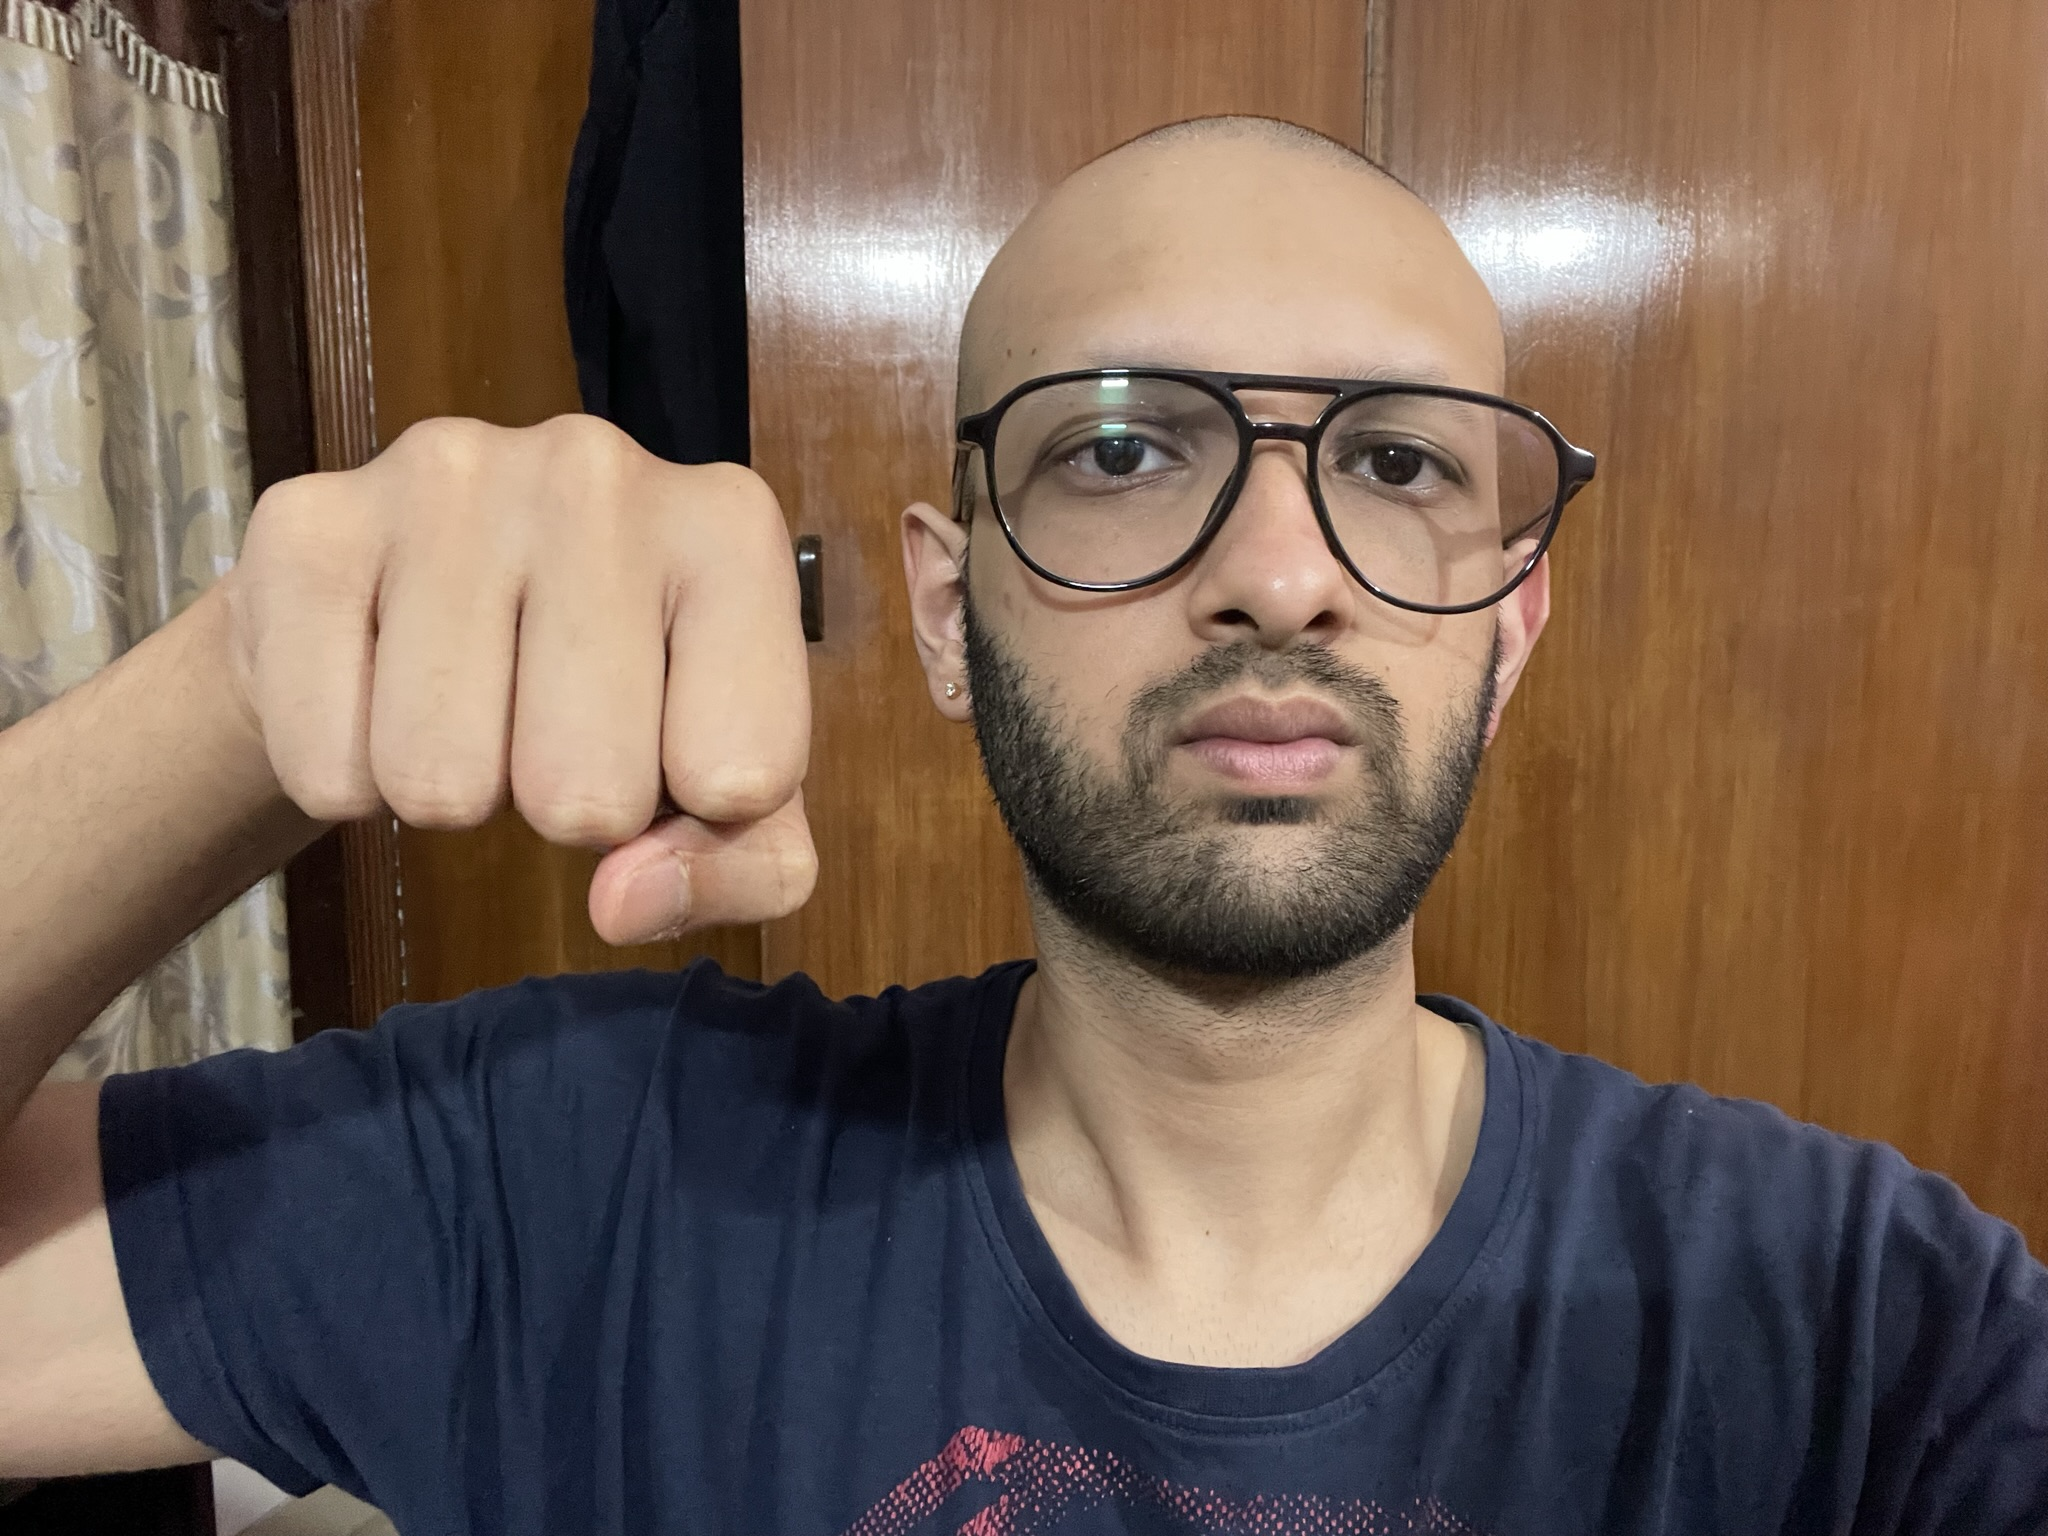Yes: (240, 402, 830, 949)
